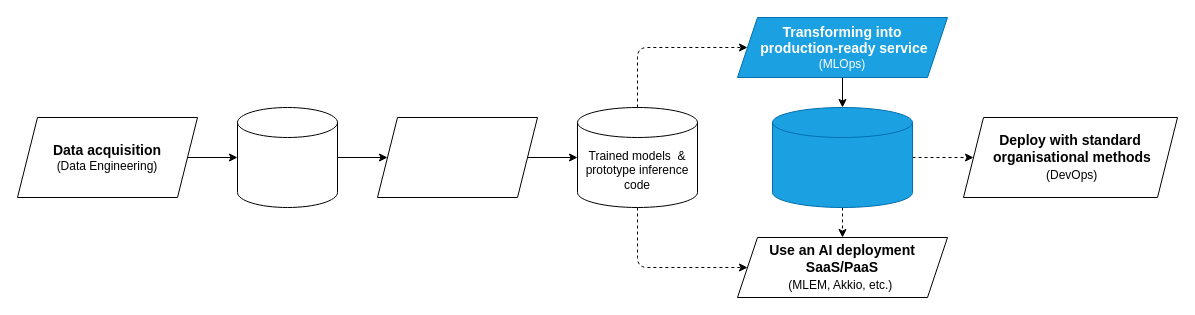
This 1195x315 diagram has some shape labels left out. The shapes that lost their labels are listed below. From the top down, each one's box as (x1, y1, x2, y2) in pixels, then its label:
(236, 106, 338, 208): Preprocessed data
(376, 116, 538, 198): Exploration & model building (Data Science)
(772, 106, 912, 208): Artifact combining the model with deplyoment best-practices
